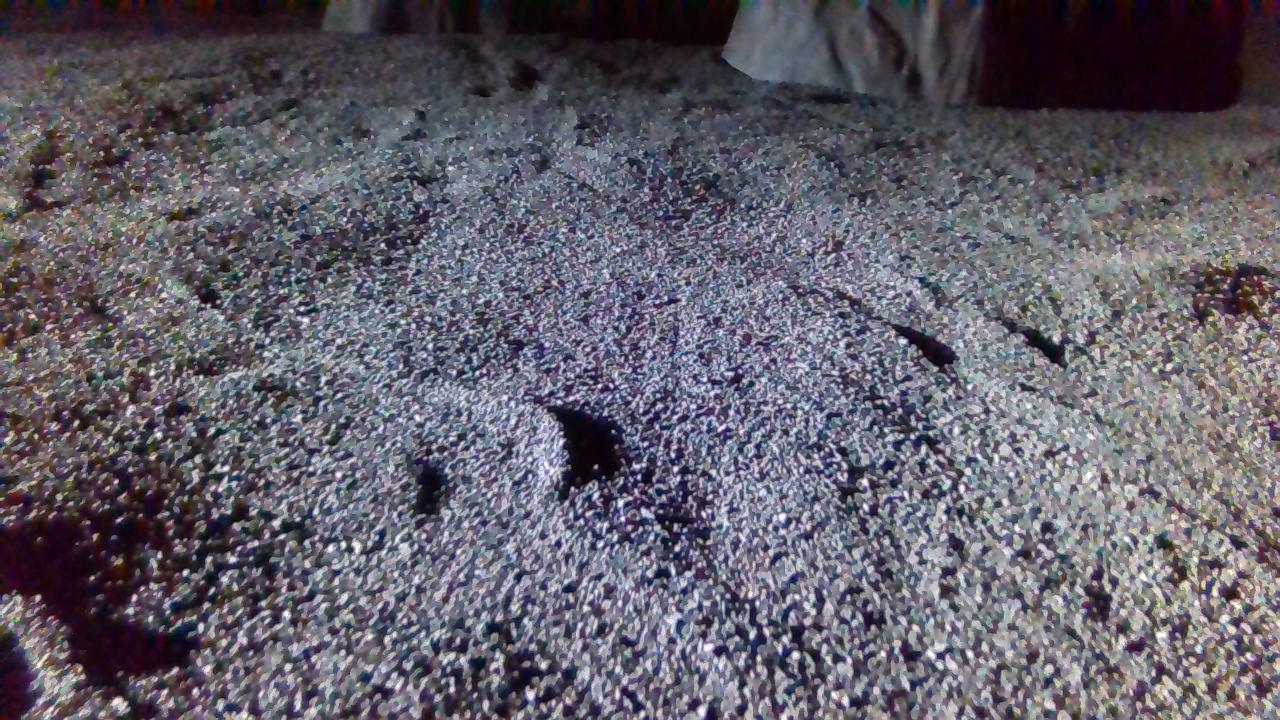rock: (724, 0, 984, 102), (321, 0, 507, 32)
